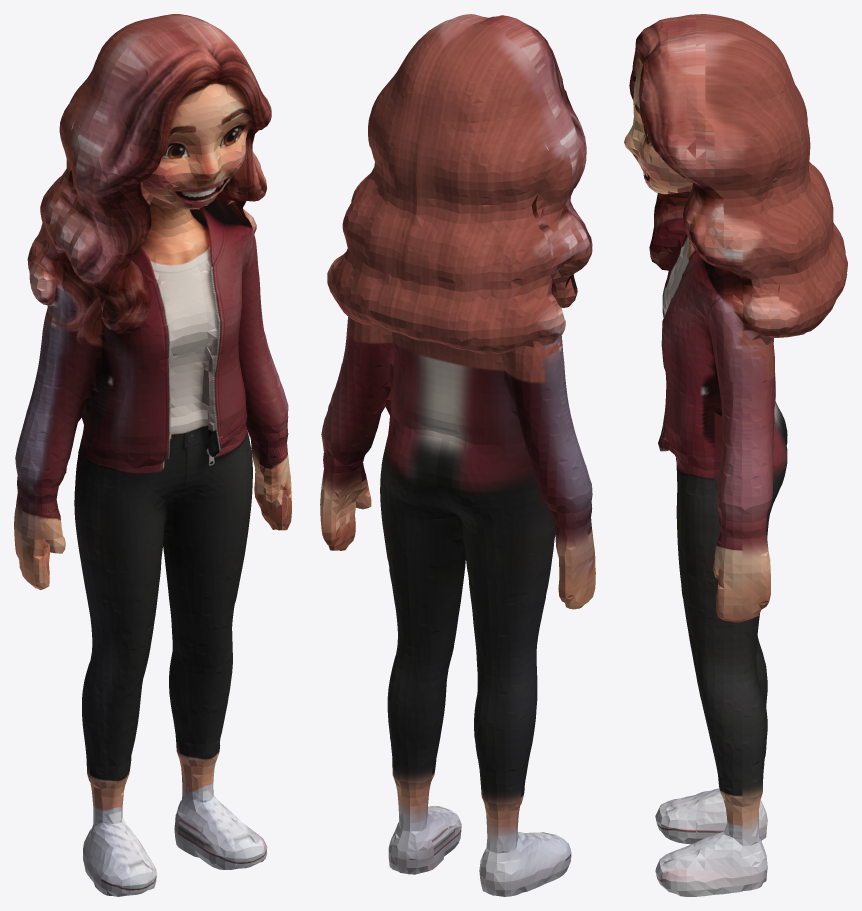
File: bobo.glb
The picture shows the model from 3 angles, left to right: view 1: azimuth 30°, elevation 25°; view 2: azimuth 150°, elevation 25°; view 3: azimuth 270°, elevation 25°; orthographic projection.
Visible parts, largest first — view 1: geometry_0; view 2: geometry_0; view 3: geometry_0.
Boxes of the visible parts, x1,y1,x2,y2 form: geometry_0: (14, 14, 291, 896); geometry_0: (320, 14, 595, 896); geometry_0: (624, 14, 847, 896).
Bounding box in the file's own units: 0.3294 × 1 × 0.2429.
1 material, 1 textured.
